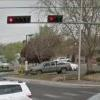traffic lights: (6, 16, 32, 24), (47, 14, 64, 24)
